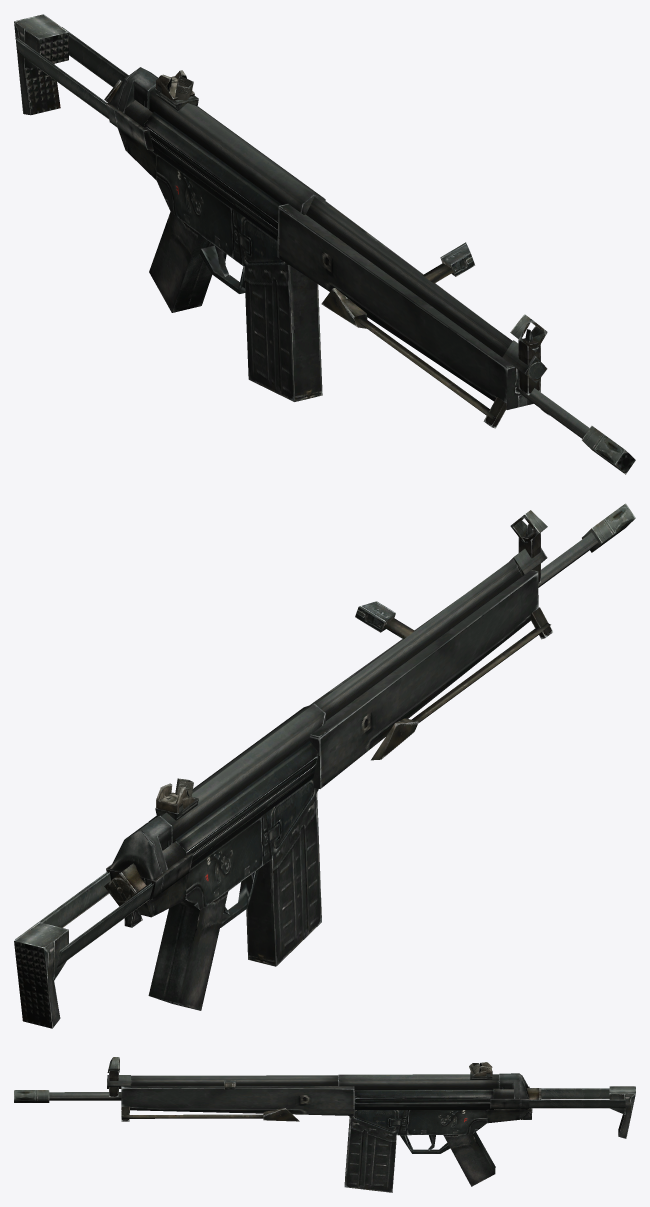
The picture shows the model from 3 angles, top to bottom: view 1: azimuth 30°, elevation 25°; view 2: azimuth 150°, elevation 25°; view 3: azimuth 270°, elevation 25°; orthographic projection. The views are drawn at different scales.
Parts seen in each view (by area): view 1: sm4_F2; view 2: sm4_F2; view 3: sm4_F2.
Part boxes in pixels (bbox=[...]): sm4_F2: bbox=[14, 14, 635, 474]; sm4_F2: bbox=[14, 503, 635, 1028]; sm4_F2: bbox=[14, 1057, 635, 1192].
Bounding box in the file's own units: 8.47 × 22.77 × 96.86.
